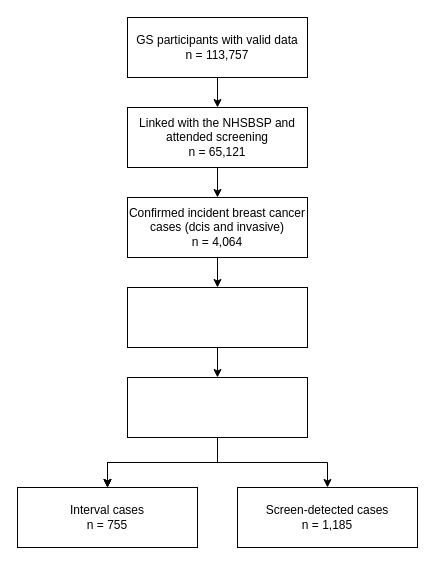
Image size: 435x565. Some labels were removed from this diagram. Each missing label, with the box of its shape:
Cases with in-house derived detection mode n = 2,963: (126, 286, 308, 348)
Interval and screen-detected cases n = 1,940: (126, 376, 308, 438)
